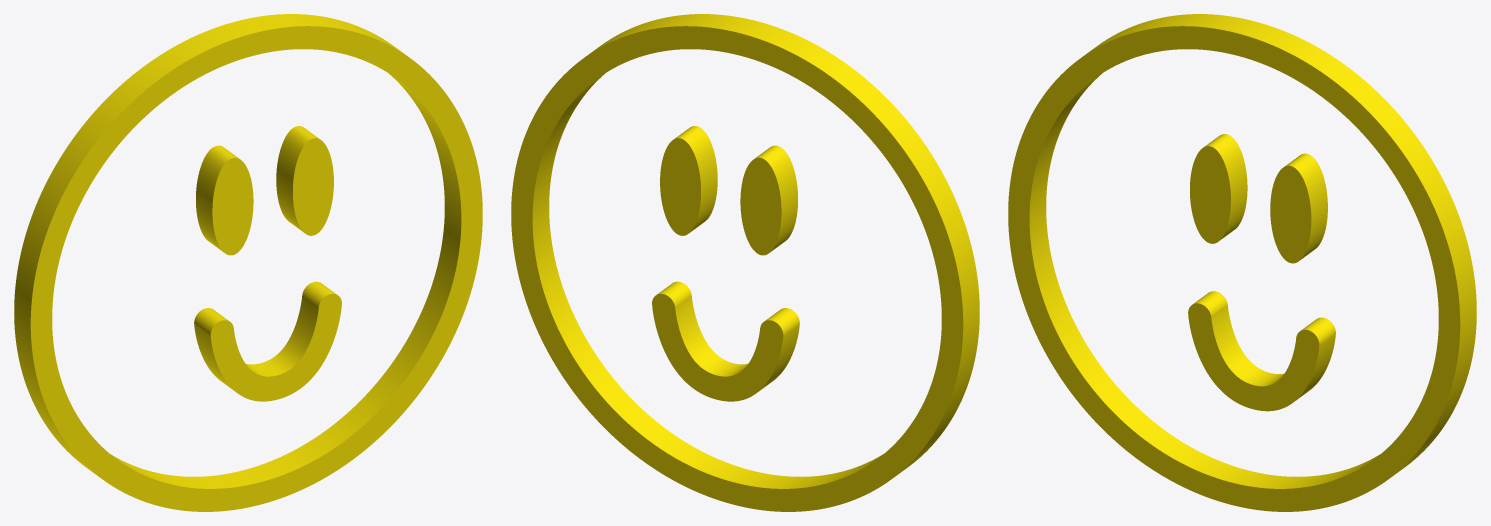
Rendered from Asset 2.gltf.
The picture shows the model from 3 angles, left to right: view 1: azimuth 30°, elevation 25°; view 2: azimuth 150°, elevation 25°; view 3: azimuth 330°, elevation 25°; orthographic projection.
Size of the model in its own units: 0.9383 by 0.9383 by 0.0596.
